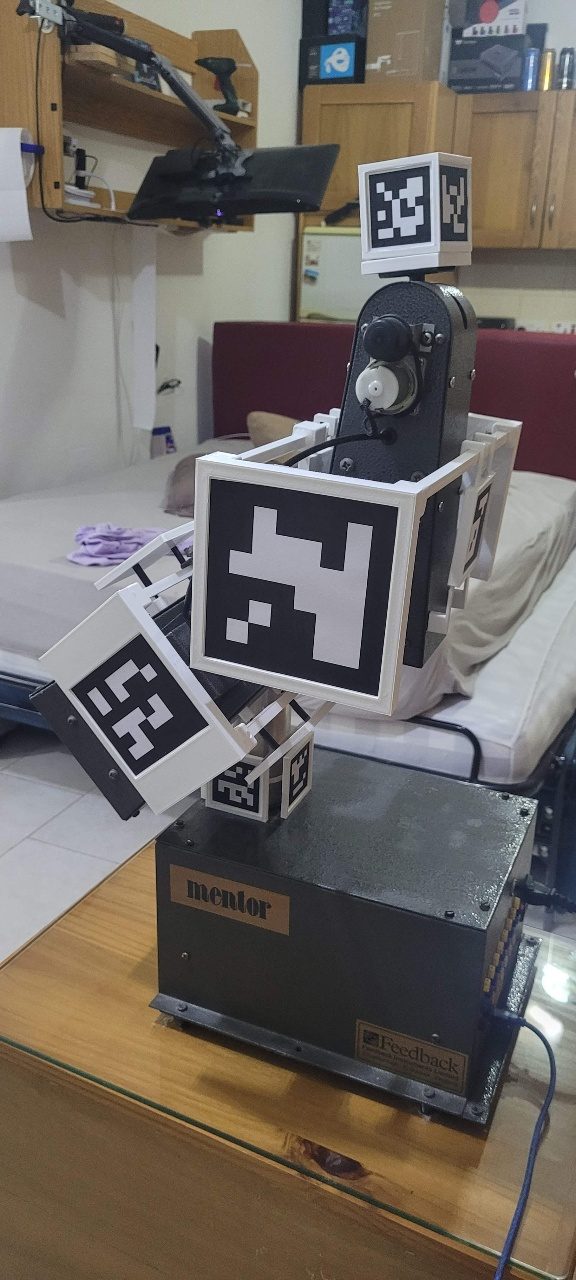Robot: (25, 151, 525, 835)
